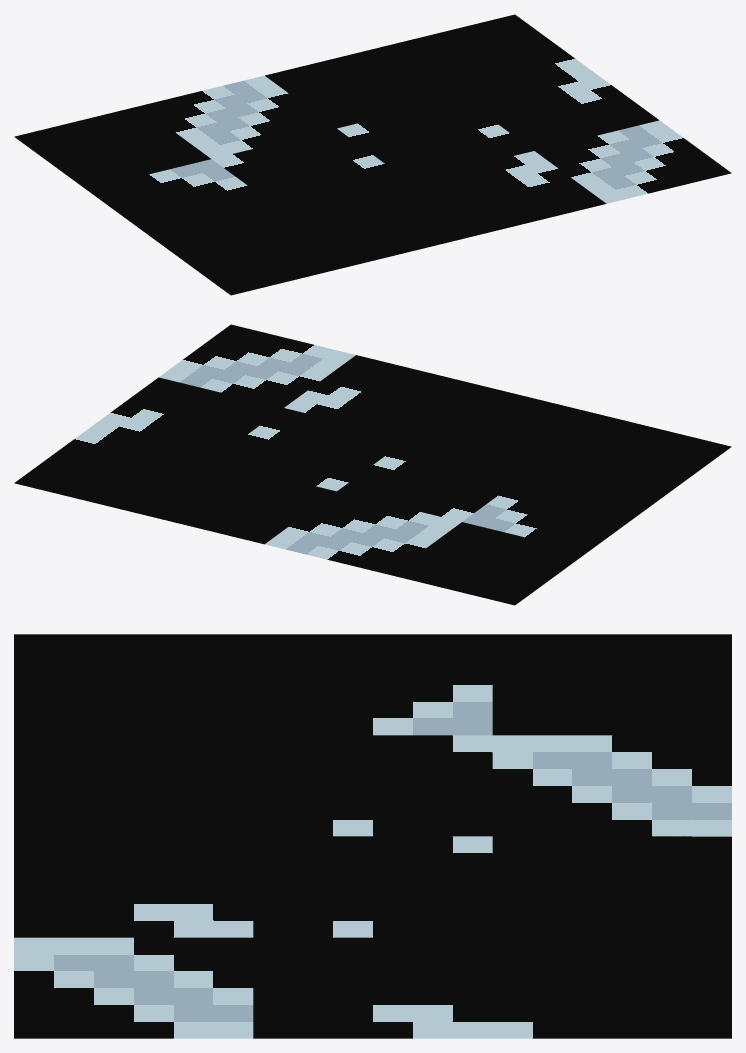
Rendered from ceiling-ship.gltf.
3 renders of one model, top to bottom at view 1: azimuth 30°, elevation 25°; view 2: azimuth 150°, elevation 25°; view 3: azimuth 270°, elevation 25°, orthographic. The views are drawn at different scales.
Parts seen in each view (by area): view 1: ceiling-ship; view 2: ceiling-ship; view 3: ceiling-ship.
Part boxes in pixels (x1,y1,x2,y2): ceiling-ship: (14,14,731,295); ceiling-ship: (14,324,731,605); ceiling-ship: (14,634,731,1038).
Bounding box in the file's own units: 16 × 0 × 12.
